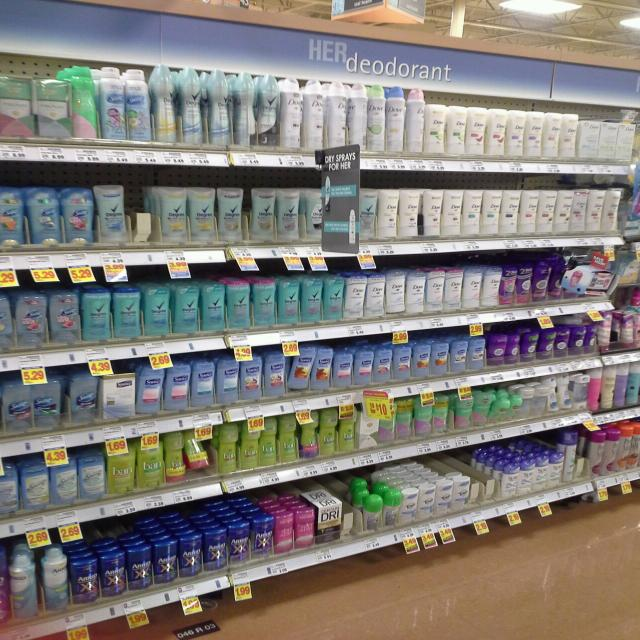empty: (131, 180, 164, 247), (341, 477, 373, 541), (467, 455, 499, 508)
